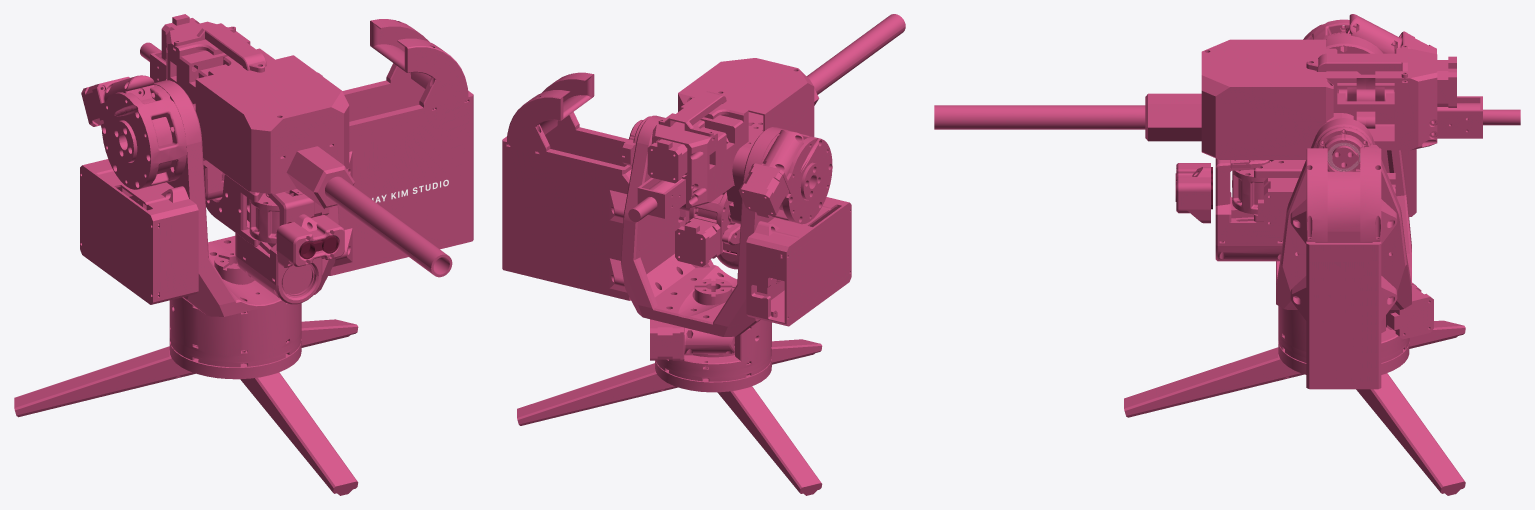
File: artemis-rcws-v5.glb
3 views of the same model, side by side, from view 1: azimuth 30°, elevation 25°; view 2: azimuth 150°, elevation 25°; view 3: azimuth 270°, elevation 25° (orthographic). The views are drawn at different scales.
Parts seen in each view (by area): view 1: object 1; view 2: object 1; view 3: object 1.
Part boxes in pixels (x1,y1,x2,y2): object 1: (14,14,473,495); object 1: (502,14,905,495); object 1: (934,14,1520,495).
Size of the model in its own units: 480 by 426 by 626.
2 materials, 2 textured.
